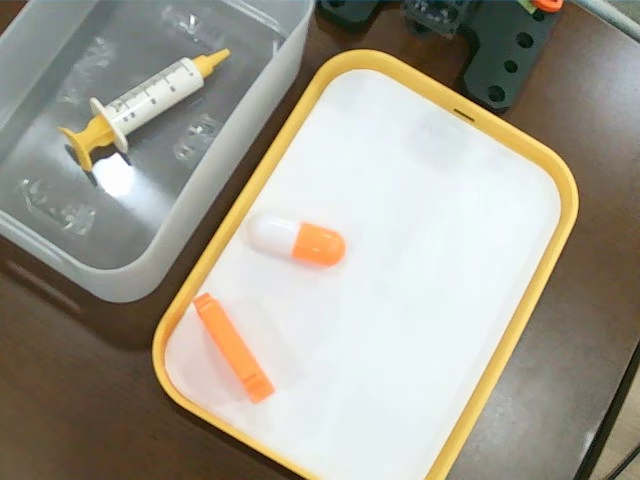pill: (246, 211, 348, 273)
syringe: (63, 45, 233, 175)
